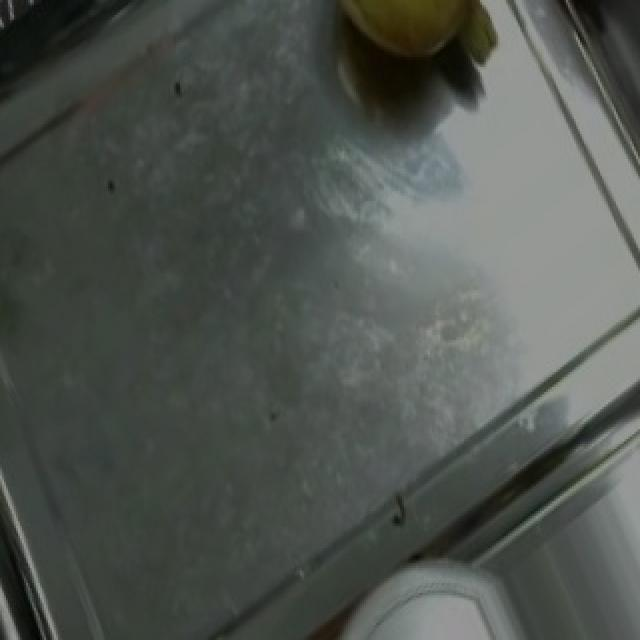fruit: (312, 0, 502, 82), (340, 565, 530, 640)
